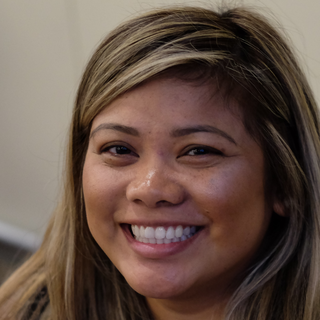eye: (169, 140, 231, 172), (95, 136, 146, 165)
